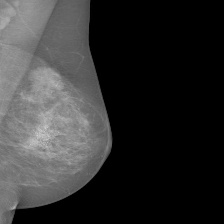Mass_1: (19, 121, 73, 167)
